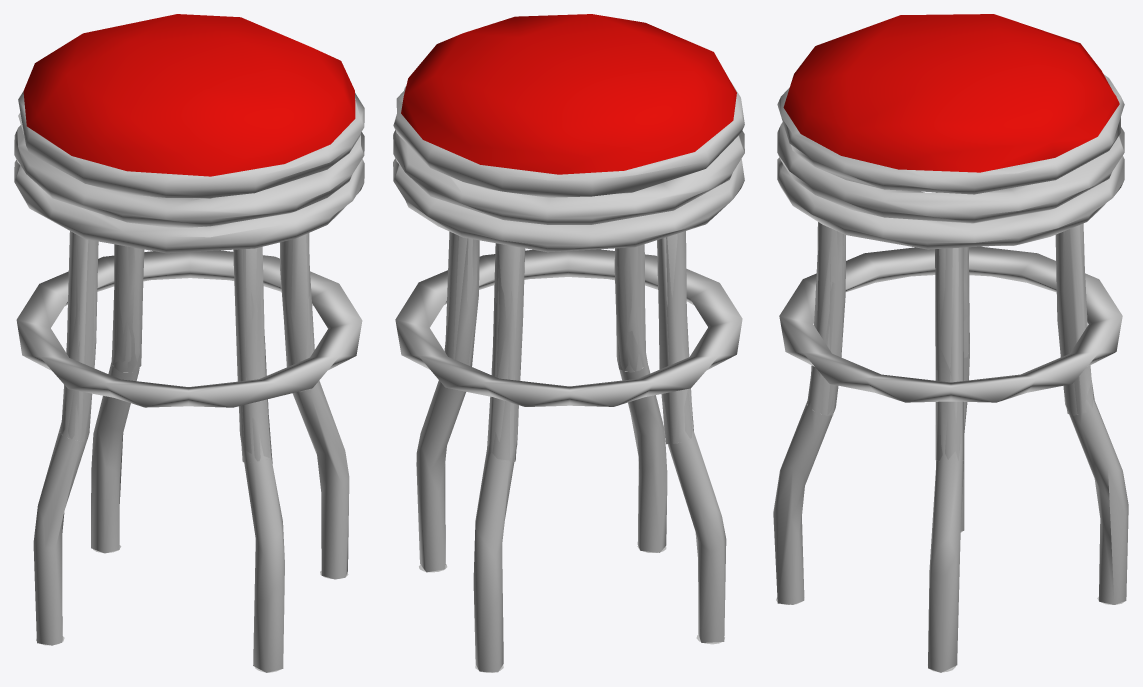
Rendered from Arcade_Barstool.fbx.
3 renders of one model, left to right at view 1: azimuth 30°, elevation 25°; view 2: azimuth 150°, elevation 25°; view 3: azimuth 270°, elevation 25°, orthographic.
Parts seen in each view (by area): view 1: Cushion, Legs, BézierCircle.003, BézierCircle; view 2: Cushion, Legs, BézierCircle.003, BézierCircle; view 3: Cushion, Legs, BézierCircle.003, BézierCircle.
Boxes of the visible parts, <box> form: Cushion: <box>23,14,355,176</box>; Legs: <box>33,231,349,672</box>; BézierCircle.003: <box>14,91,364,253</box>; BézierCircle: <box>16,250,362,407</box>; Cushion: <box>401,14,736,174</box>; Legs: <box>416,231,726,672</box>; BézierCircle.003: <box>393,81,744,252</box>; BézierCircle: <box>395,249,742,406</box>; Cushion: <box>783,14,1119,172</box>; Legs: <box>773,192,1128,672</box>; BézierCircle.003: <box>777,74,1124,249</box>; BézierCircle: <box>779,246,1122,402</box>.
Size of the model in its own units: 270 by 465 by 271.
